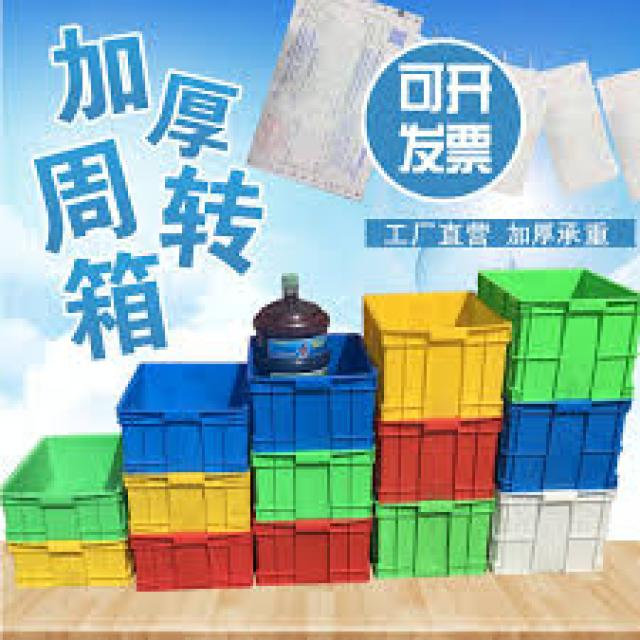basket: (365, 291, 520, 507), (0, 431, 135, 597), (250, 334, 380, 455), (116, 363, 251, 475), (491, 491, 618, 575), (376, 500, 500, 581), (253, 452, 375, 522), (253, 519, 374, 589), (130, 531, 256, 595), (125, 475, 250, 538)
